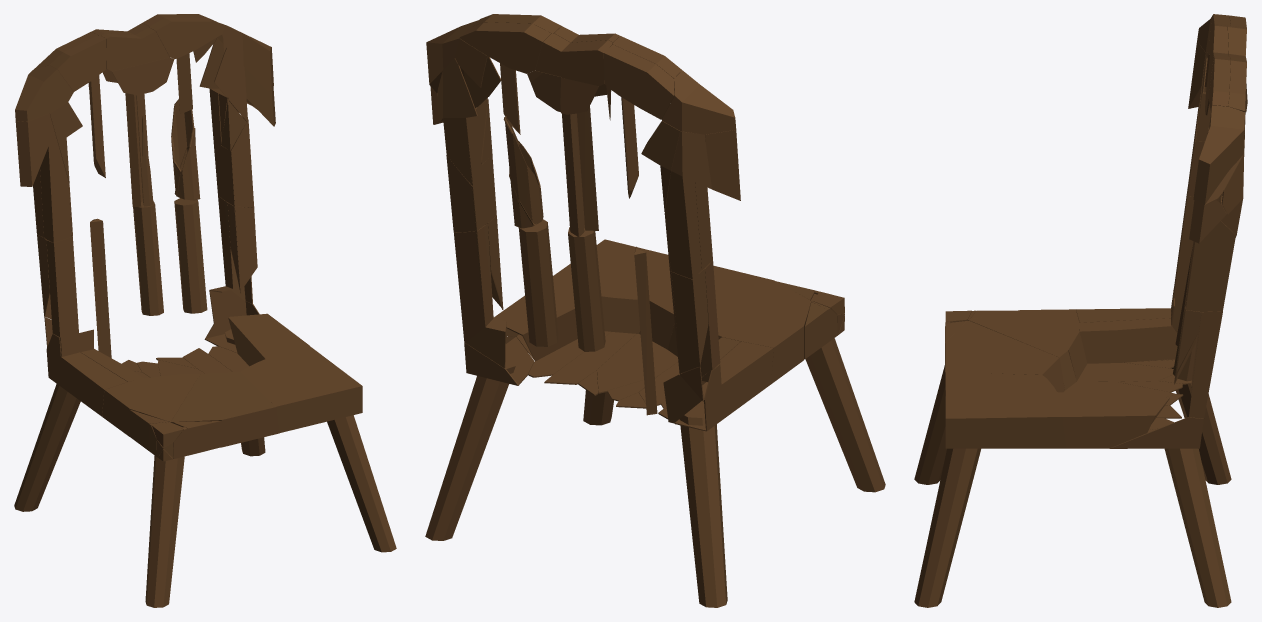
The model's file is chair2-pieces.fbx.
The picture shows the model from 3 angles, left to right: view 1: azimuth 30°, elevation 25°; view 2: azimuth 150°, elevation 25°; view 3: azimuth 270°, elevation 25°; orthographic projection. The views are drawn at different scales.
Parts seen in each view (by area): view 1: chair2_cell.048, chair2_cell.103, chair2_cell.017, chair2-leg1, chair2-leg3, chair2_cell.073, chair2_cell.122, chair2-leg2, chair2_cell.001, chair2_cell.097, chair2_cell.022, chair2_cell.029 (+28 smaller); view 2: chair2-leg2, chair2-leg4, chair2-leg1, chair2_cell.070, chair2_cell.048, chair2_cell.065, chair2_cell.122, chair2_cell.073, chair2_cell.103, chair2_cell.097, chair2_cell.069, chair2_cell.029 (+32 smaller); view 3: chair2_cell.048, chair2_cell.073, chair2-leg4, chair2-leg3, chair2_cell.022, chair2_cell.103, chair2_cell.122, chair2_cell.074, chair2_cell.117, chair2_cell.065, chair2-leg2, chair2-leg1 (+15 smaller).
Boxes of the visible parts, x1=… form: chair2_cell.048: x1=240, y1=345, x2=362, y2=433; chair2_cell.103: x1=171, y1=372, x2=279, y2=447; chair2_cell.017: x1=15, y1=113, x2=72, y2=242; chair2-leg1: x1=145, y1=447, x2=184, y2=607; chair2-leg3: x1=327, y1=415, x2=396, y2=552; chair2_cell.073: x1=46, y1=334, x2=143, y2=416; chair2_cell.122: x1=102, y1=373, x2=200, y2=436; chair2-leg2: x1=14, y1=384, x2=80, y2=511; chair2_cell.001: x1=46, y1=236, x2=93, y2=356; chair2_cell.097: x1=174, y1=198, x2=207, y2=313; chair2_cell.022: x1=228, y1=313, x2=309, y2=366; chair2_cell.029: x1=133, y1=201, x2=163, y2=315; chair2-leg2: x1=679, y1=403, x2=727, y2=607; chair2-leg4: x1=425, y1=355, x2=517, y2=540; chair2-leg1: x1=805, y1=338, x2=885, y2=492; chair2_cell.070: x1=664, y1=131, x2=712, y2=279; chair2_cell.048: x1=553, y1=239, x2=671, y2=333; chair2_cell.065: x1=454, y1=224, x2=506, y2=368; chair2_cell.122: x1=667, y1=301, x2=811, y2=384; chair2_cell.073: x1=674, y1=337, x2=773, y2=431; chair2_cell.103: x1=639, y1=265, x2=810, y2=349; chair2_cell.097: x1=518, y1=219, x2=558, y2=346; chair2_cell.069: x1=437, y1=58, x2=481, y2=186; chair2_cell.029: x1=568, y1=227, x2=605, y2=351; chair2_cell.048: x1=945, y1=372, x2=1066, y2=448; chair2_cell.073: x1=1076, y1=298, x2=1183, y2=363; chair2-leg4: x1=1164, y1=448, x2=1231, y2=607; chair2-leg3: x1=914, y1=448, x2=980, y2=607; chair2_cell.022: x1=1057, y1=392, x2=1169, y2=448; chair2_cell.103: x1=945, y1=320, x2=1064, y2=395; chair2_cell.122: x1=969, y1=309, x2=1087, y2=390; chair2_cell.074: x1=1193, y1=105, x2=1244, y2=204; chair2_cell.117: x1=1185, y1=221, x2=1235, y2=311; chair2_cell.065: x1=1189, y1=311, x2=1222, y2=418; chair2-leg2: x1=1171, y1=367, x2=1231, y2=484; chair2-leg1: x1=914, y1=365, x2=946, y2=484.
Bounding box in the file's own units: 2.73 × 4.58 × 2.78.
